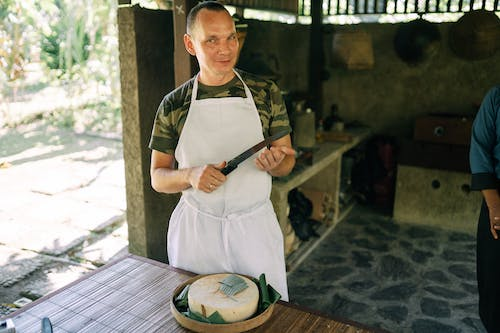knife: (219, 129, 291, 175)
